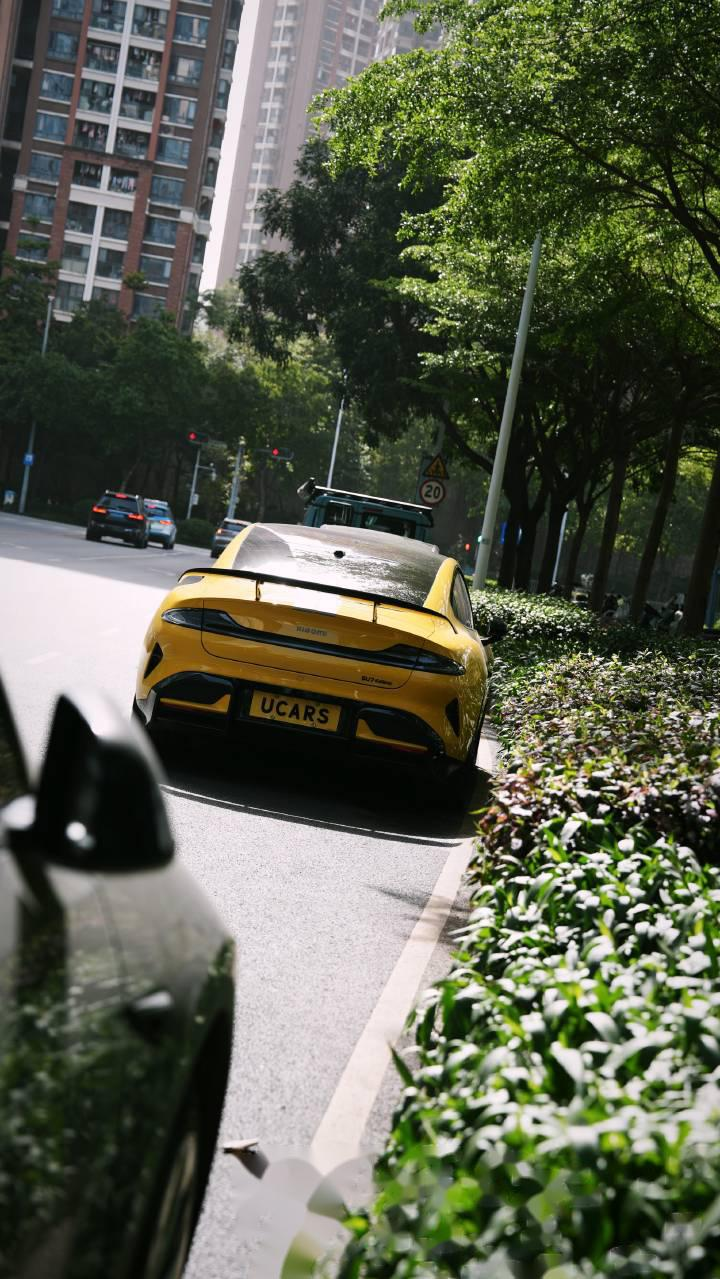other: (85, 489, 148, 543)
su7: (137, 517, 497, 780)
